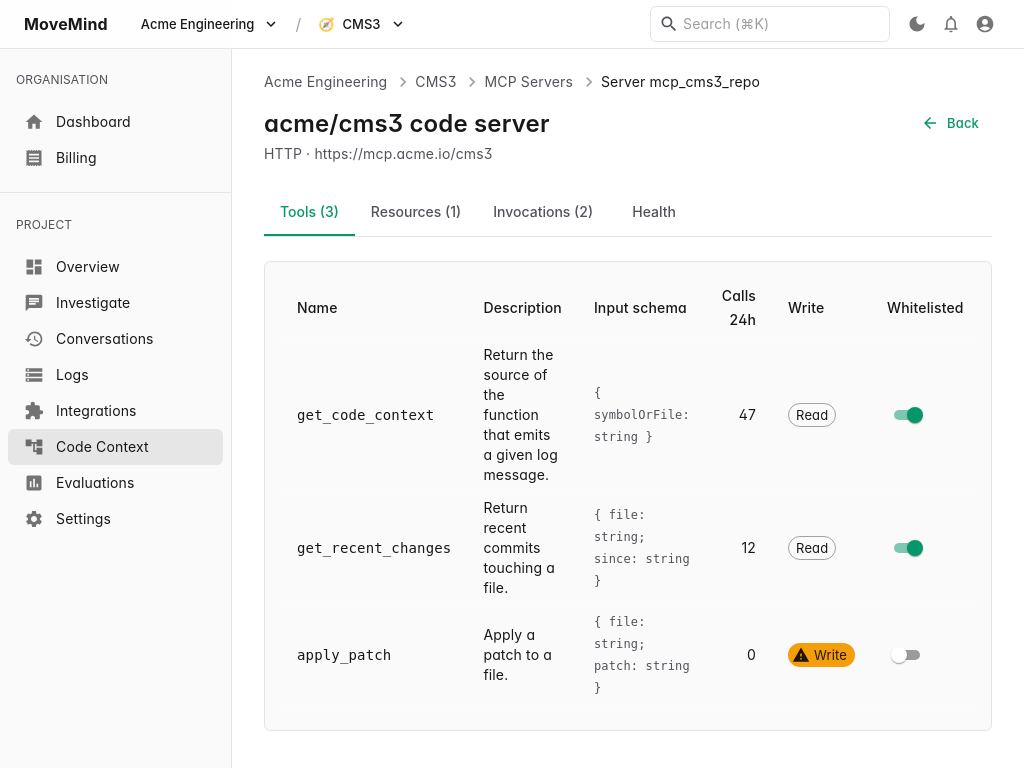
Test case: McpServerDetailPage › switches to invocations tab
Click the tab "Invocations (2)" at (543, 212), box [477,188,609,236]
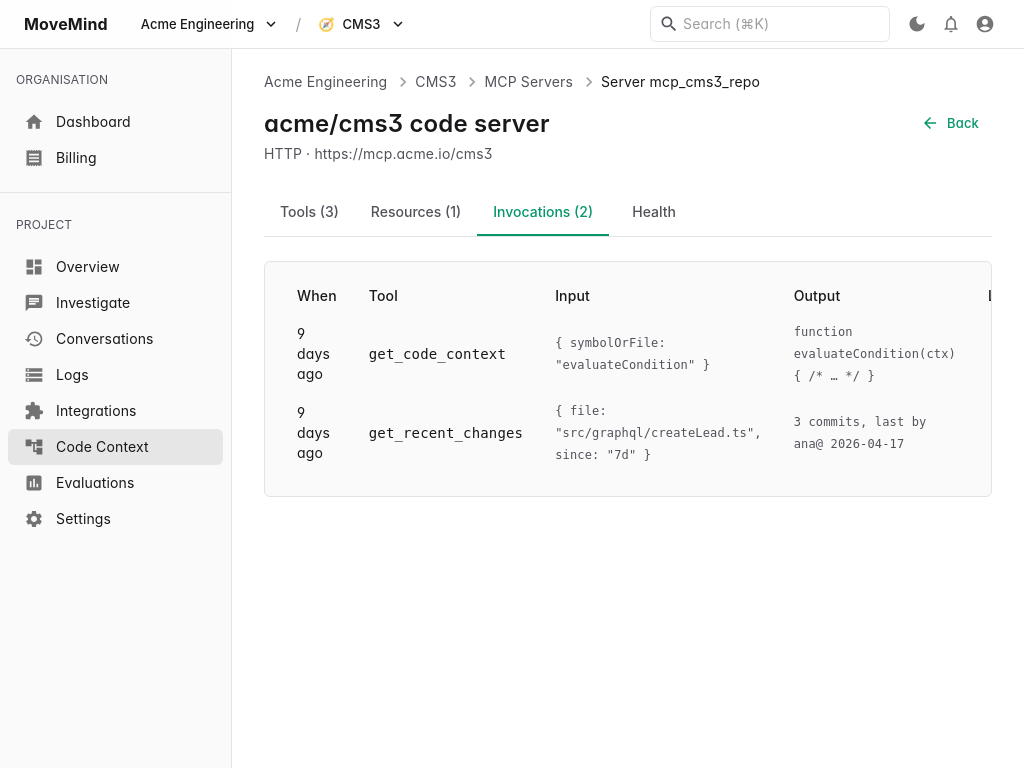
Now the column heading "When" is shown, box [281,278,353,314]
